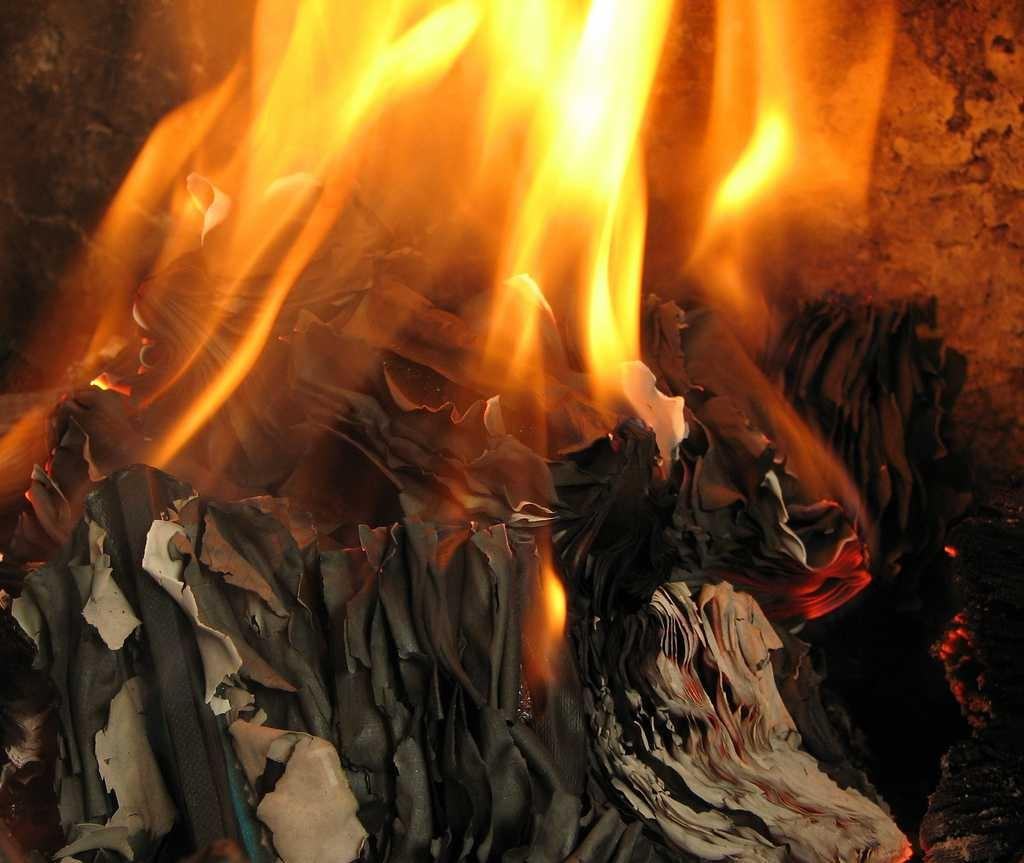fire: (117, 11, 925, 432)
